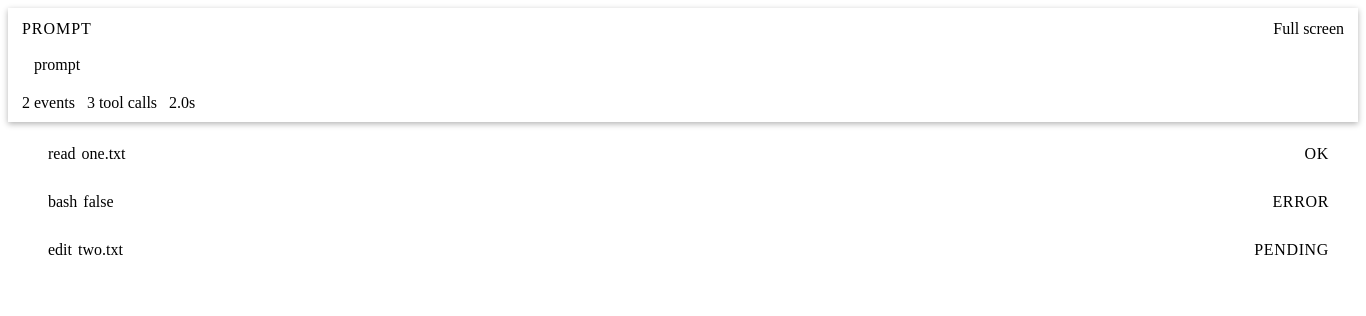
Test: TurnDetail › starts every mobile tool collapsed, permits tap expansion, and disables hover details
Hover over the button with aria-label "Expand tool details": point(104, 153) [28,142,1338,166]
Click the button with aria-label "Expand tool details": point(104, 153) [28,142,1338,166]
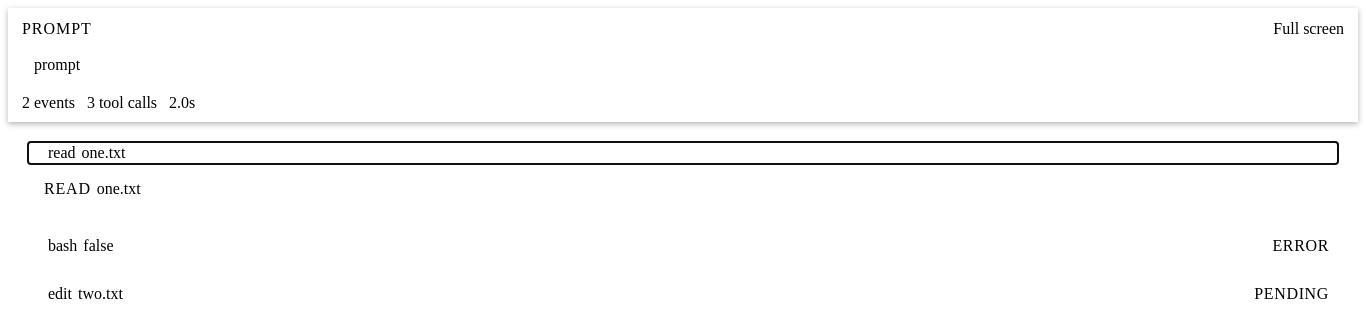
Now the number of elements with class "td__tool-body" is 1, box [44,180,141,197]
